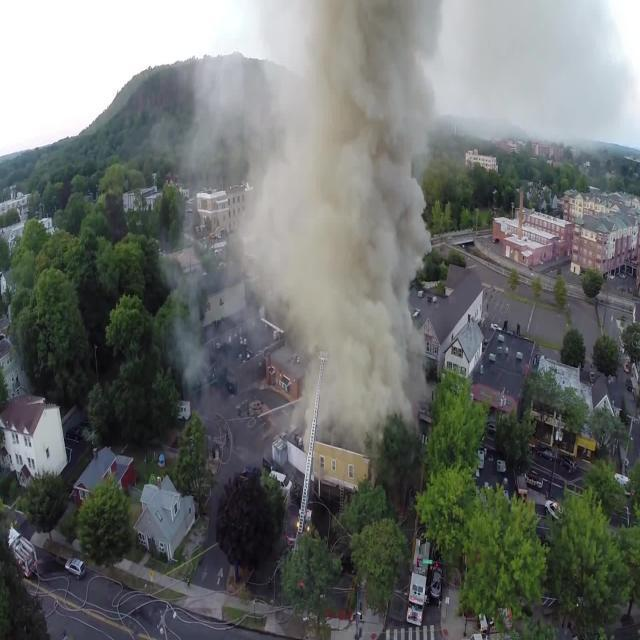Smoke: (252, 31, 443, 379)
